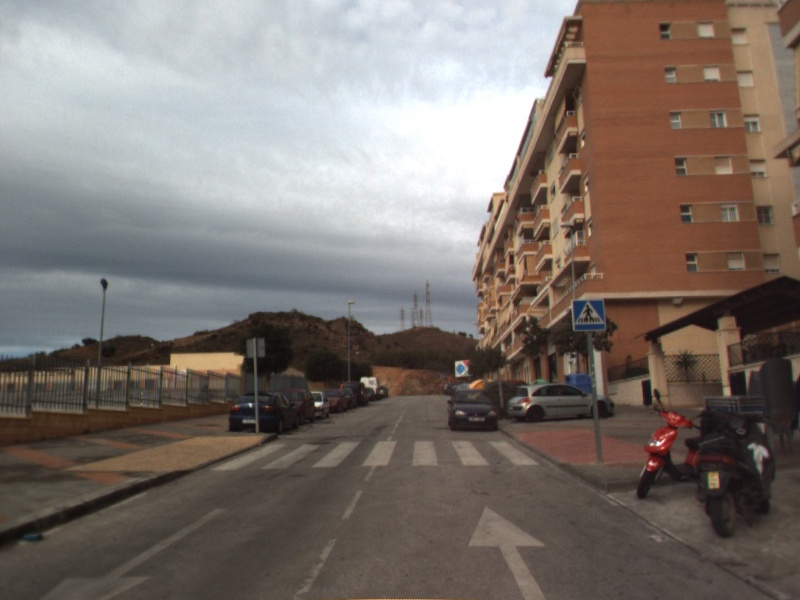STRAIGHT: (466, 504, 552, 600)
